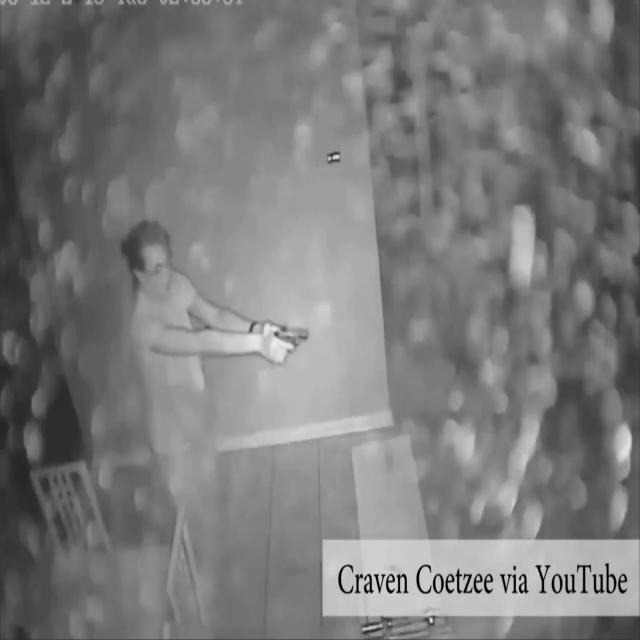gun: (271, 328, 311, 362)
